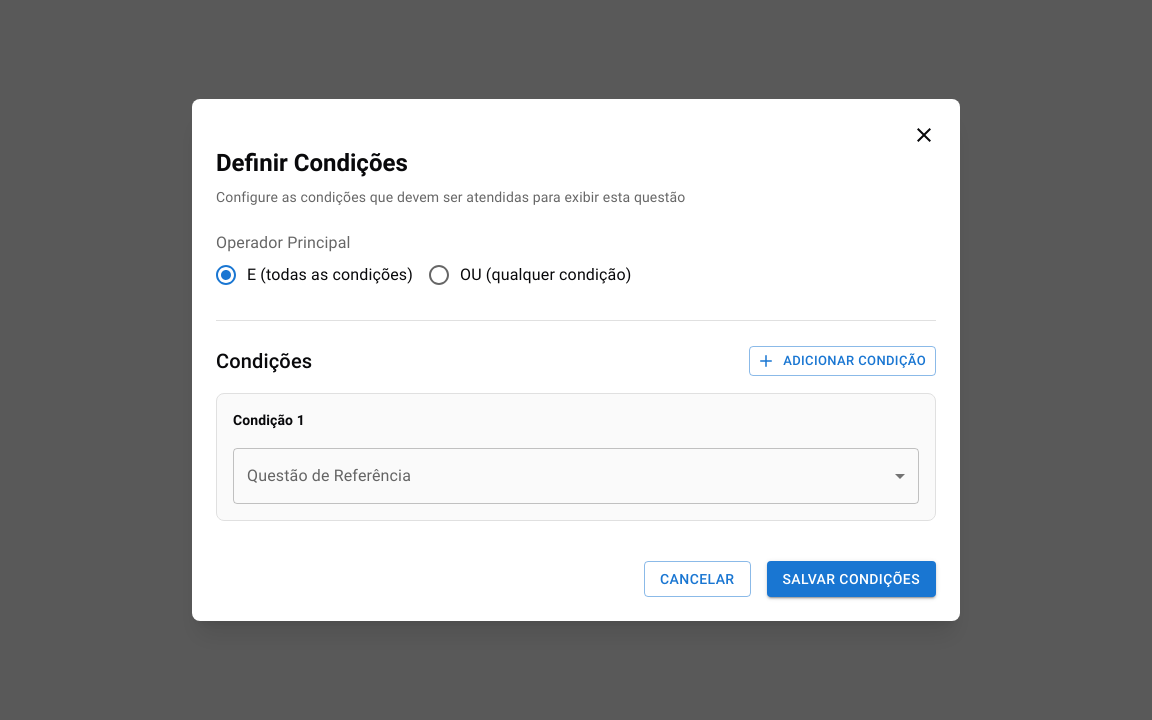
ModalConditions (tickets-documentacao, 27) › ⚠️ a própria questão não aparece como referência; tipos em português
This screenshot has width=1152, height=720.
Press the mouse on the dropdown at [576, 476], box [233, 448, 919, 504]
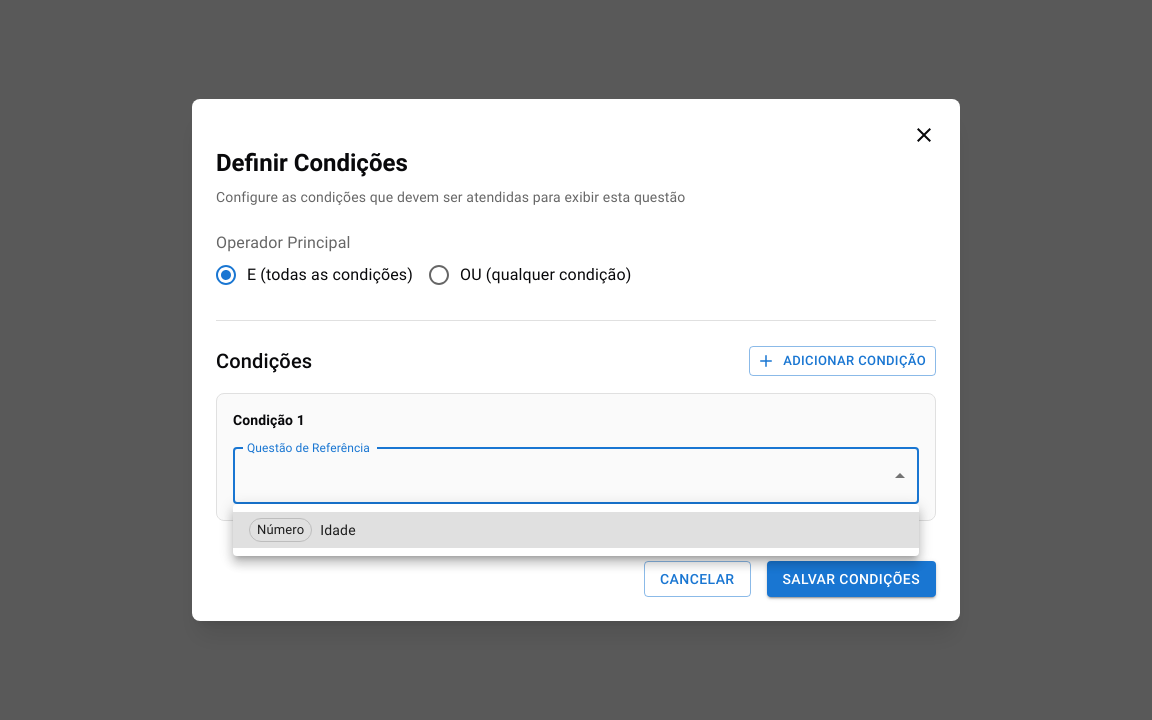
Now the text "Idade" is shown, box [320, 520, 356, 540]
Now the text "Número" is shown, box [257, 522, 304, 537]
